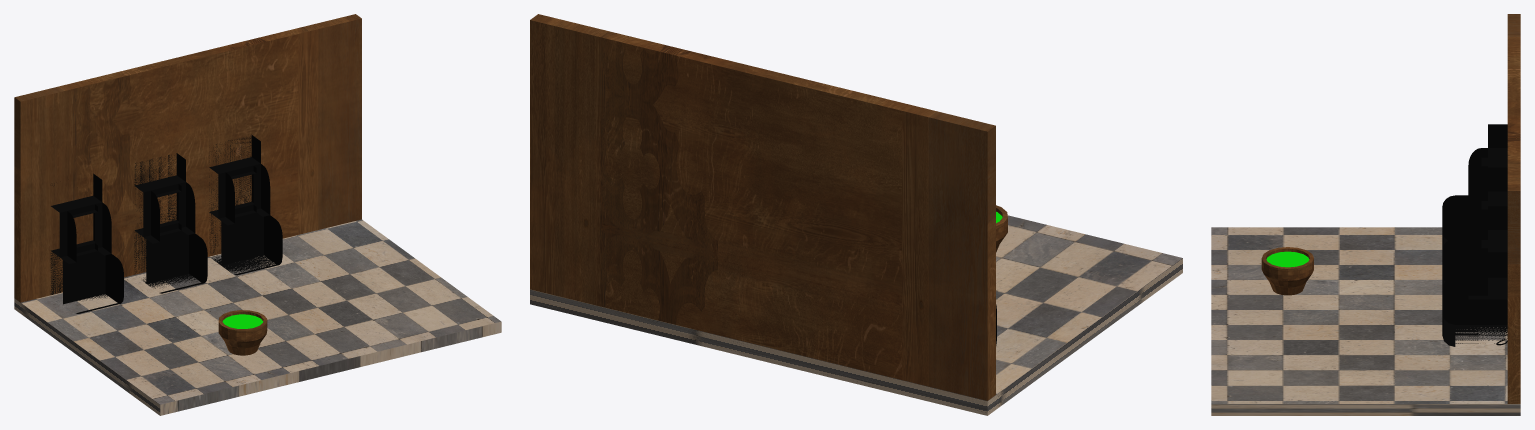
The model's file is Salon.glb.
3 renders of one model, left to right at view 1: azimuth 30°, elevation 25°; view 2: azimuth 150°, elevation 25°; view 3: azimuth 270°, elevation 25°, orthographic. The views are drawn at different scales.
Visible parts, largest first — view 1: Wall, Floor, Machine.001, Machine.002, Machine.010, PokerTable; view 2: Wall, Floor; view 3: Floor, Machine.002, Wall, Machine.010, Machine.001, PokerTable.
Part boxes in pixels (left/top/right/bottom): Wall: left=14, top=14, right=361, bottom=302; Floor: left=14, top=219, right=501, bottom=415; Machine.001: left=134, top=153, right=207, bottom=293; Machine.002: left=209, top=134, right=282, bottom=275; Machine.010: left=50, top=173, right=123, bottom=313; PokerTable: left=218, top=310, right=267, bottom=355; Wall: left=530, top=14, right=995, bottom=400; Floor: left=530, top=215, right=1182, bottom=415; Floor: left=1211, top=227, right=1520, bottom=415; Machine.002: left=1442, top=206, right=1507, bottom=346; Wall: left=1507, top=14, right=1520, bottom=403; Machine.010: left=1442, top=124, right=1507, bottom=248; Machine.001: left=1442, top=167, right=1507, bottom=287; PokerTable: left=1261, top=247, right=1313, bottom=295.
Size of the model in its own units: 16 by 9.5 by 11.83.
Materials: 5 (2 with a texture image).
